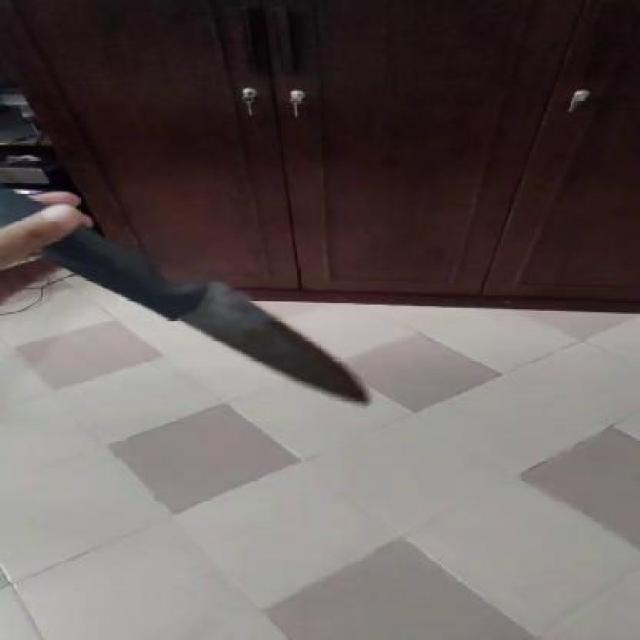-: (183, 259, 382, 426)
